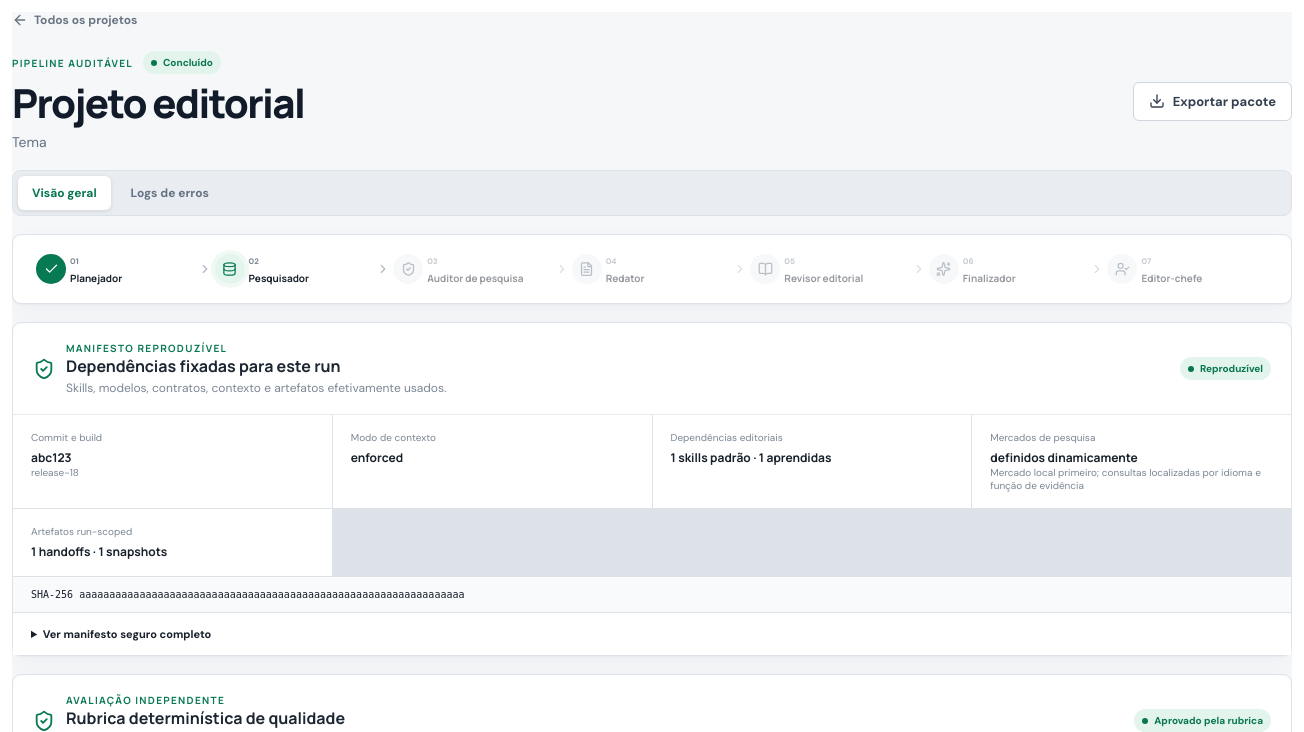
Test case: Pipeline editorial export › shows a safe public error and restores the button
The width and height of the screenshot is (1304, 732).
Click the button "Exportar pacote" at (1212, 101), box [1133,82,1292,120]
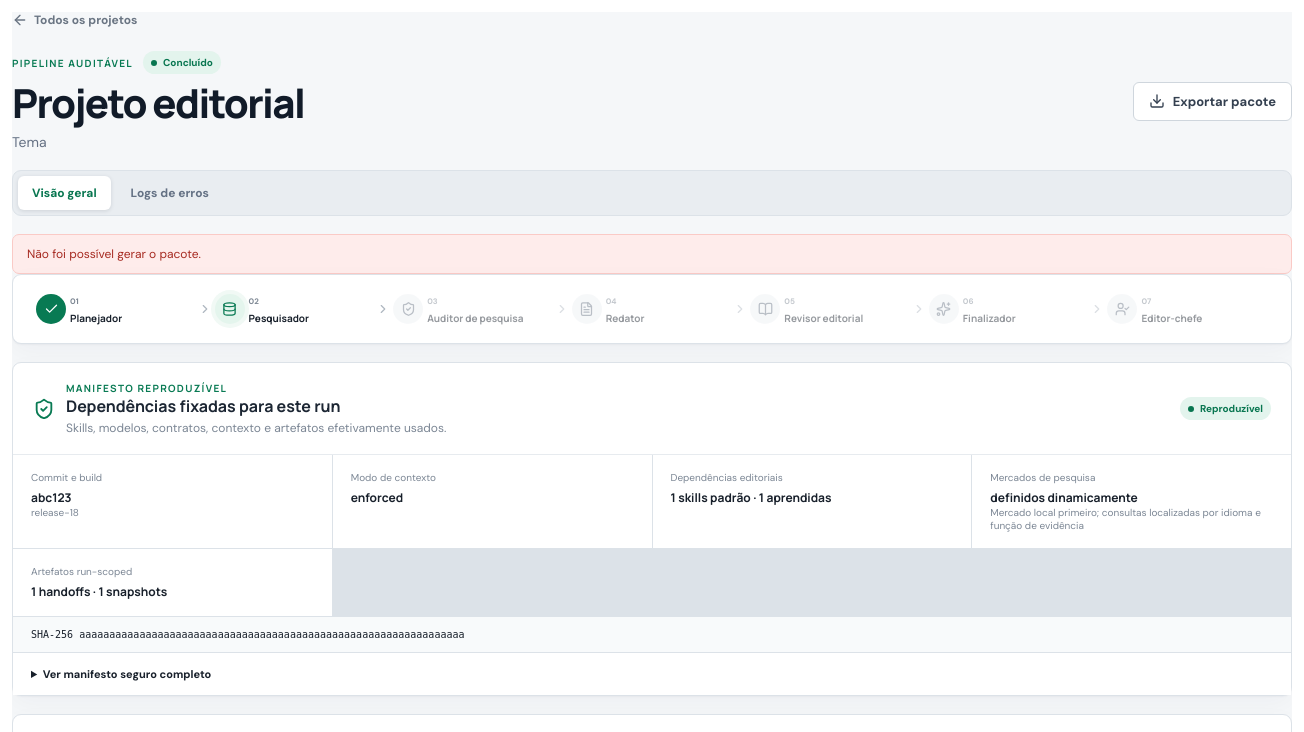
Result: the message reads "Não foi possível gerar o pacote." at [27,246,201,262]
